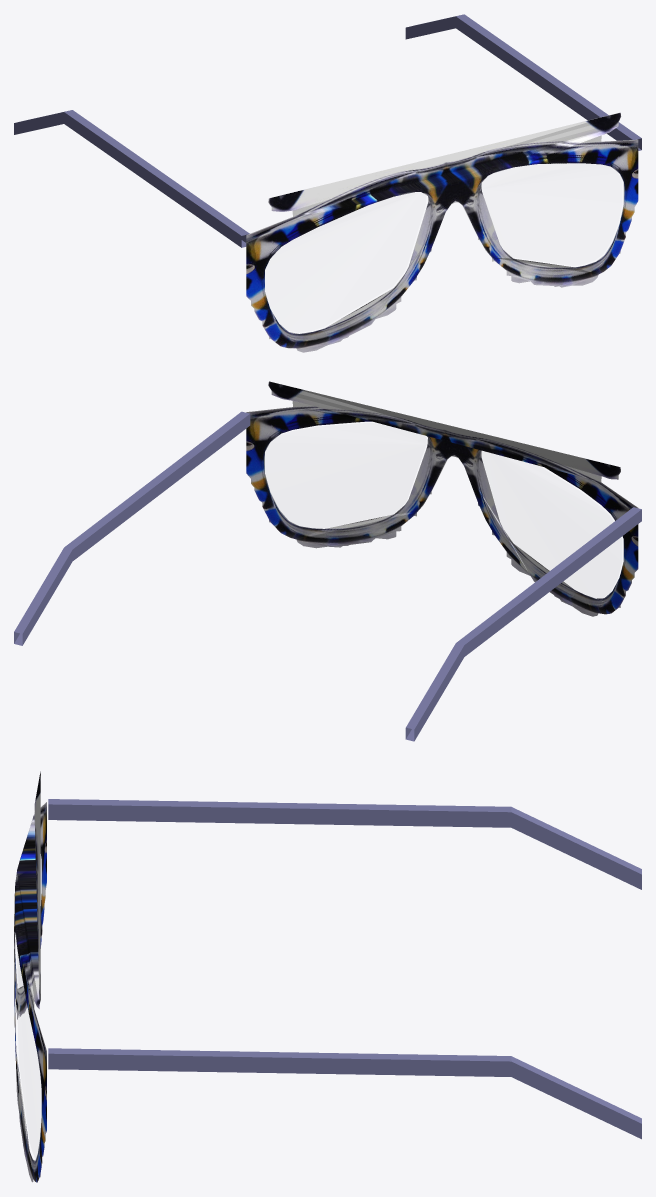
The model's file is gothamstyle-148_demi-blue-black.glb.
The picture shows the model from 3 angles, top to bottom: view 1: azimuth 30°, elevation 25°; view 2: azimuth 150°, elevation 25°; view 3: azimuth 270°, elevation 25°; orthographic projection. The views are drawn at different scales.
Parts seen in each view (by area): view 1: frame_front, temple_viewer_left, temple_viewer_right; view 2: frame_front, temple_viewer_left, temple_viewer_right; view 3: temple_viewer_left, temple_viewer_right, frame_front.
Boxes of the visible parts, <box> form: frame_front: <box>246,112,638,352</box>; temple_viewer_left: <box>14,110,249,247</box>; temple_viewer_right: <box>405,14,641,150</box>; frame_front: <box>246,381,638,616</box>; temple_viewer_left: <box>405,507,641,741</box>; temple_viewer_right: <box>14,411,250,645</box>; temple_viewer_left: <box>48,799,641,889</box>; temple_viewer_right: <box>48,1048,641,1139</box>; frame_front: <box>14,771,46,1182</box>.
Bounding box in the file's own units: 0.1401 × 0.0534 × 0.146.
Materials: 3 (2 with a texture image).
